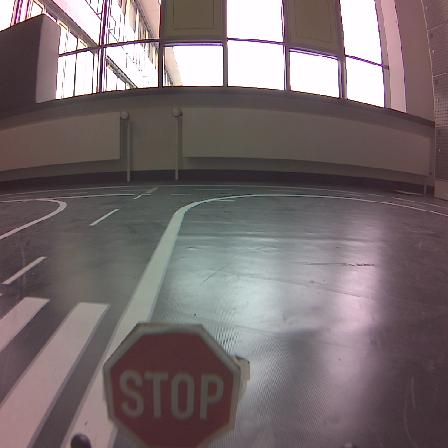STOP: (104, 323, 240, 447)
